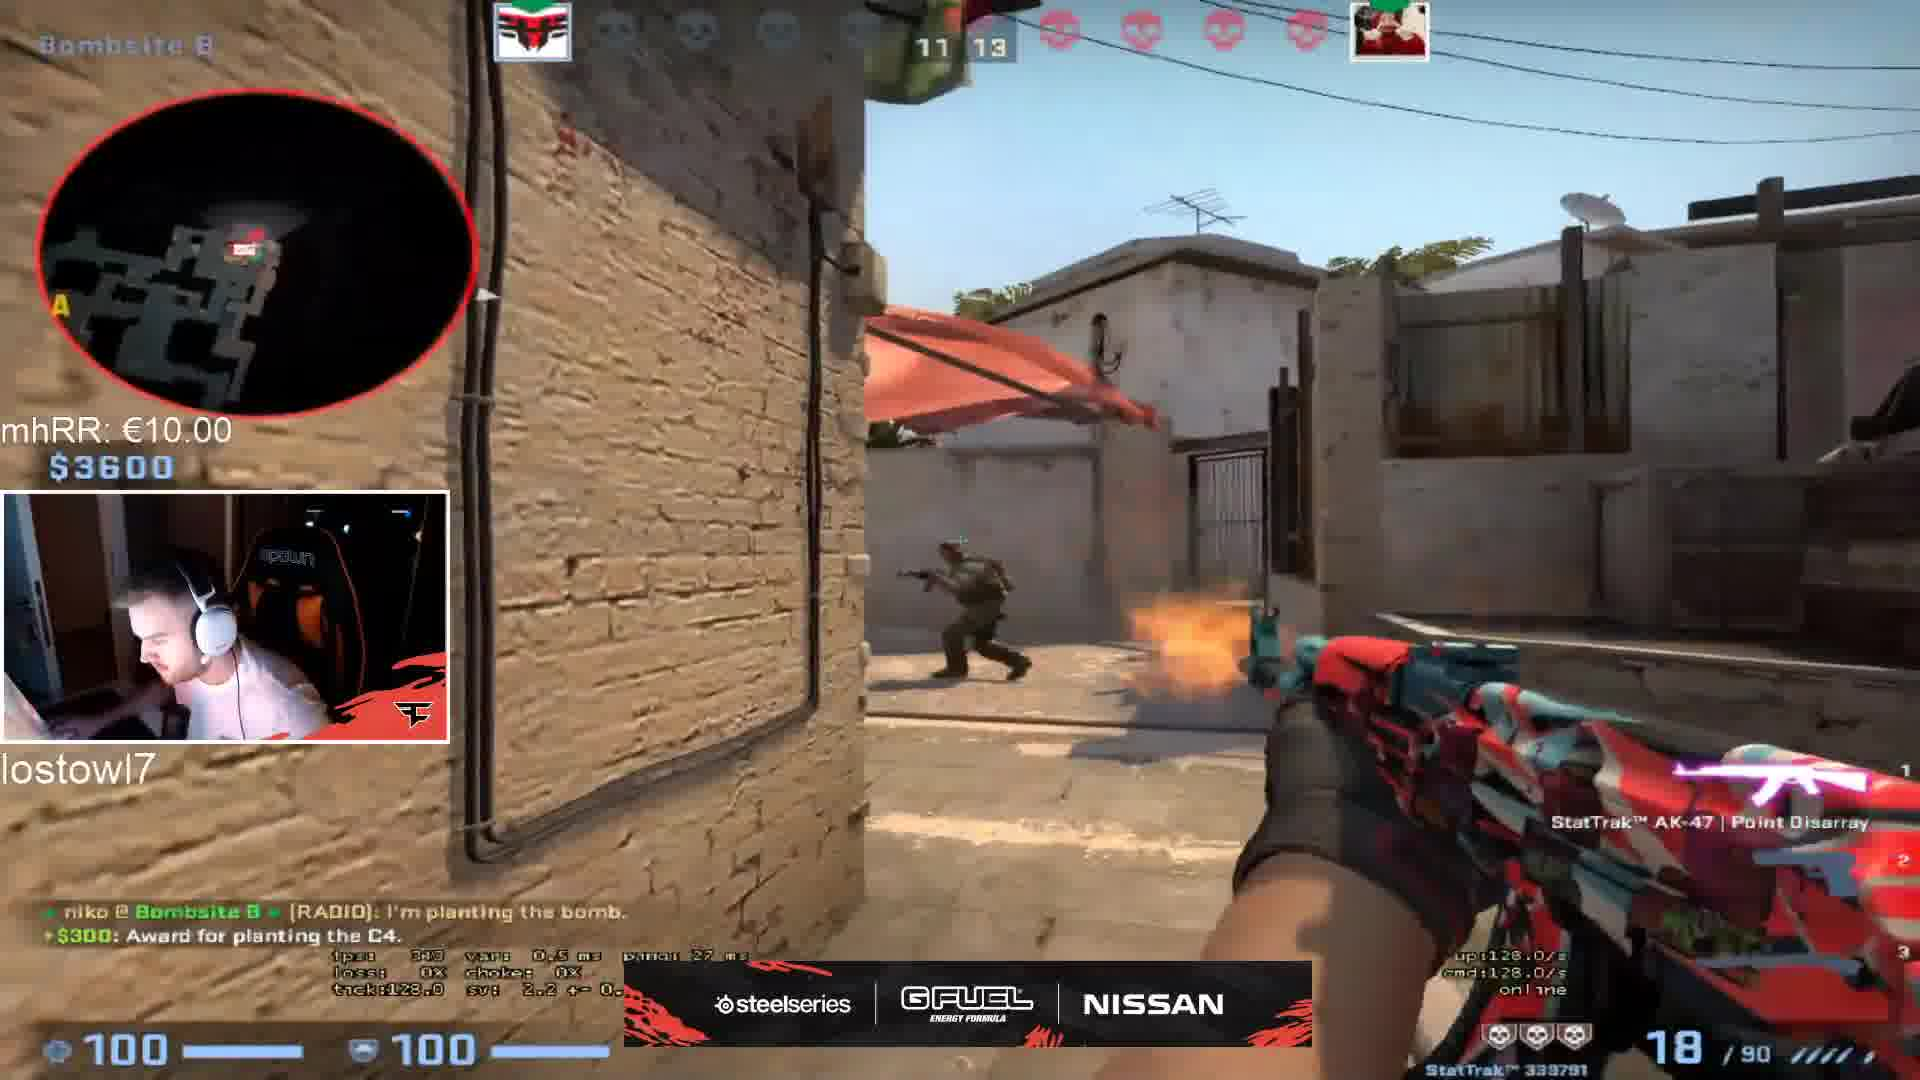enemy: (899, 526, 1034, 692)
